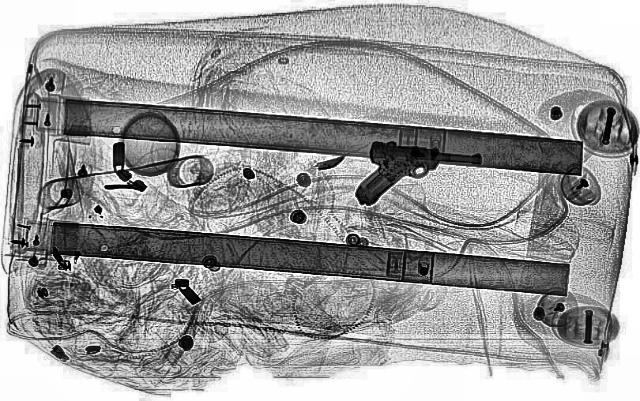Gun: (346, 140, 484, 214)
